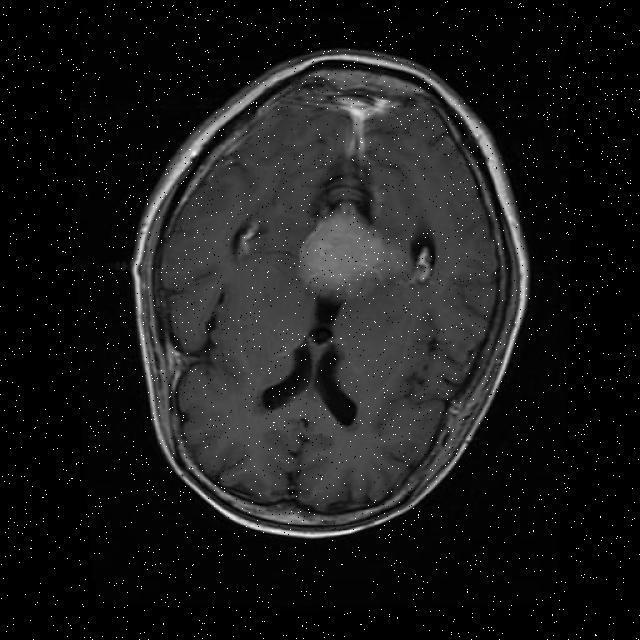Meningioma: (300, 205, 401, 298)
